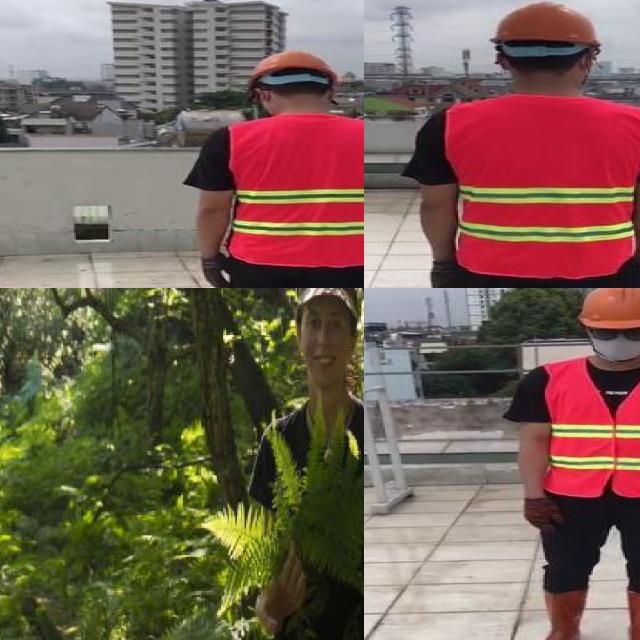boots: (538, 588, 588, 640)
face_mask: (585, 320, 640, 362)
face_nomask: (299, 311, 352, 372)
glasses: (246, 288, 364, 640), (295, 288, 361, 311), (586, 320, 640, 344)
hand_glove: (522, 497, 563, 532), (197, 254, 231, 288), (429, 260, 463, 288), (627, 264, 640, 288)
hand_noglove: (259, 538, 312, 618)
head_helmet: (488, 1, 602, 48), (242, 48, 342, 87), (573, 288, 640, 330)
person: (397, 0, 640, 288), (507, 288, 640, 640), (179, 42, 364, 288)
vest: (443, 96, 640, 275), (225, 115, 364, 262), (543, 358, 640, 499)
